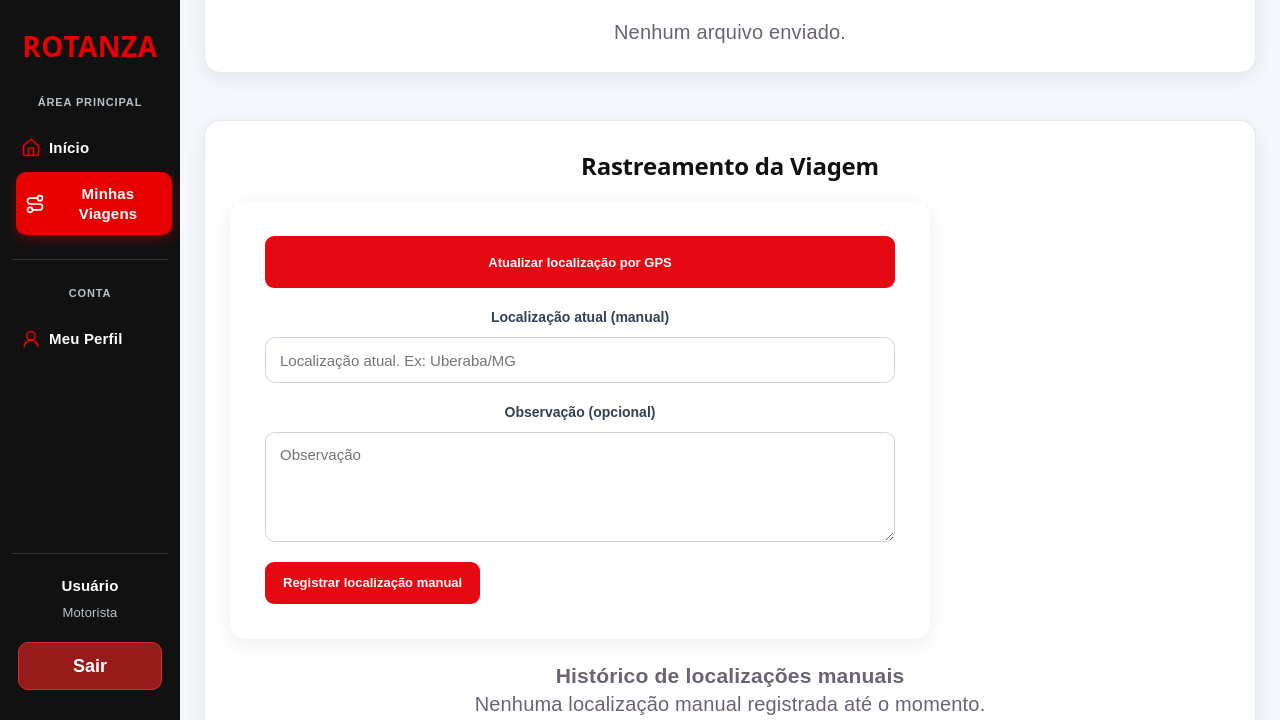
Scenario: atualiza a timeline da viagem do motorista após registrar localização
(page scrolled)
Type "Campinas/SP" into the field with placeholder "Localização atual. Ex: Uberaba/MG" at point(580, 360), box [265,337,895,383]
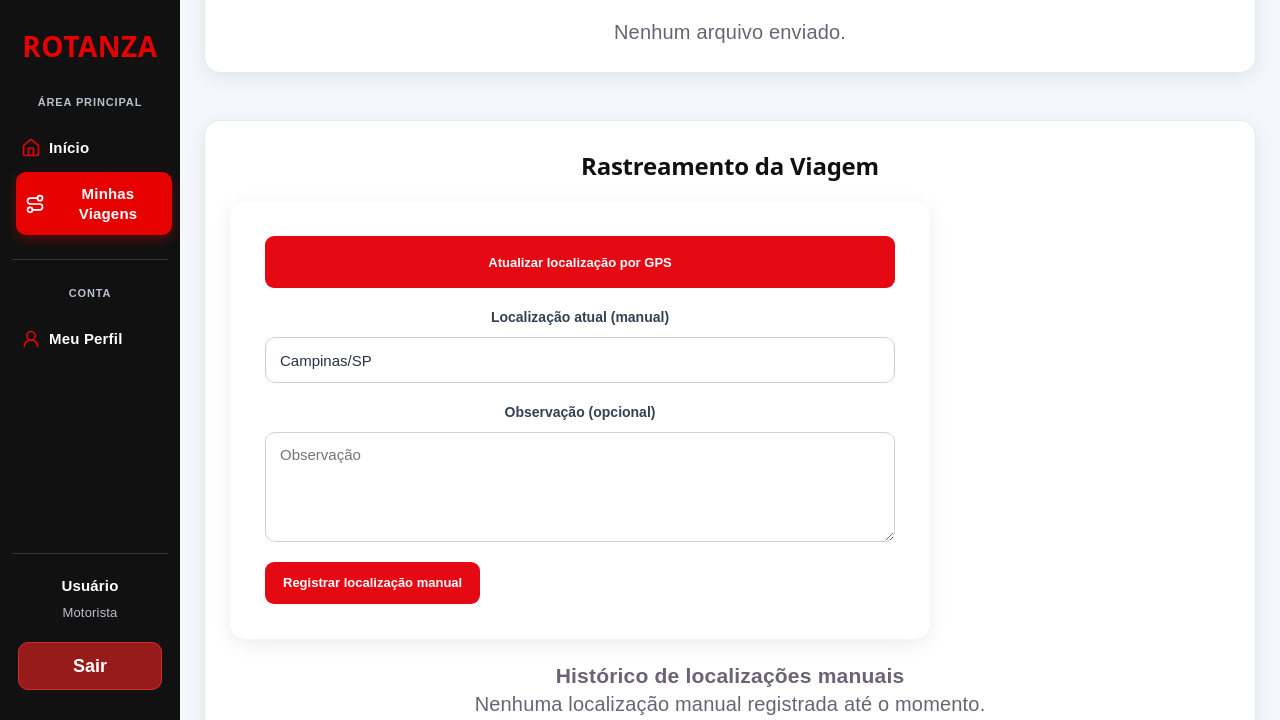
Click the button "Registrar localização manual" at point(373, 583), box [265,562,480,604]
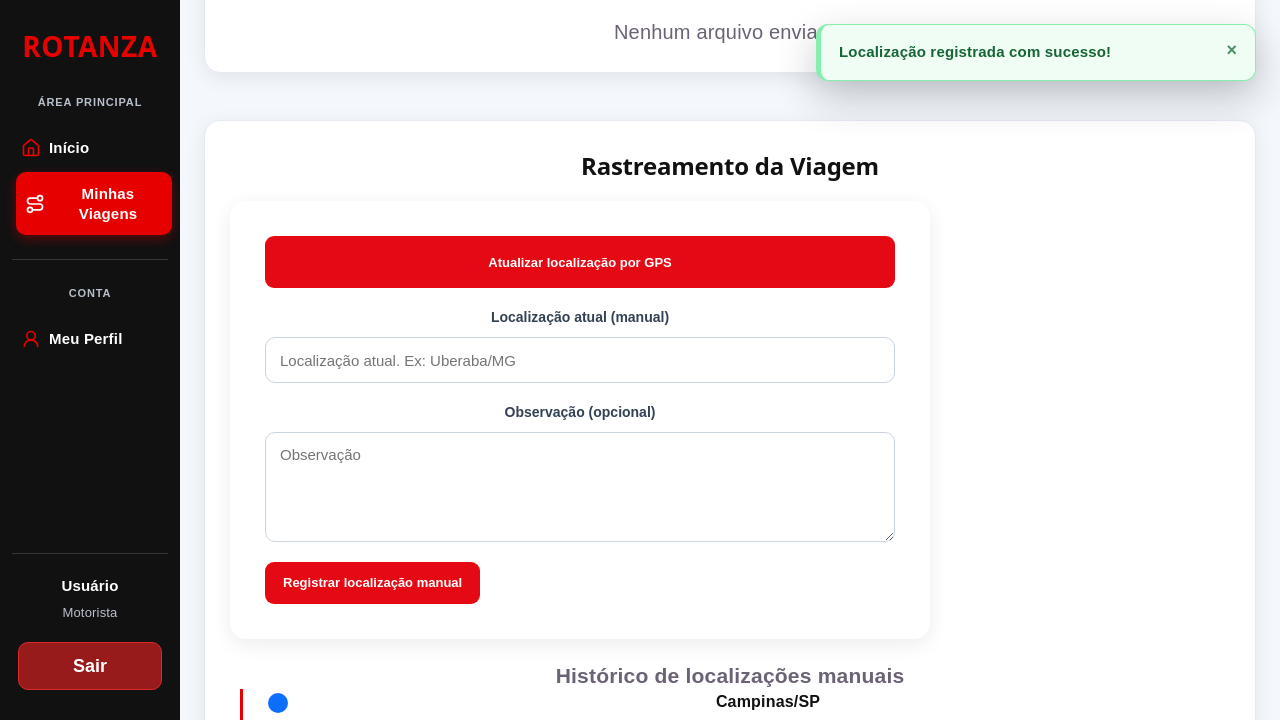
Expected: the text "Localização registrada com sucesso!" is shown, [839,41,1111,64]
Expected: the text "Campinas/SP" is shown, [716,693,820,710]
